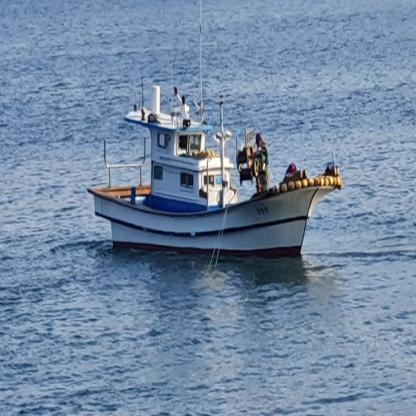fish-b: (88, 56, 353, 277)
